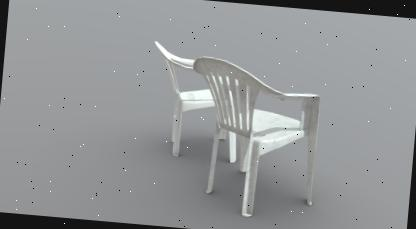chair: (176, 46, 337, 229), (142, 35, 238, 166)
